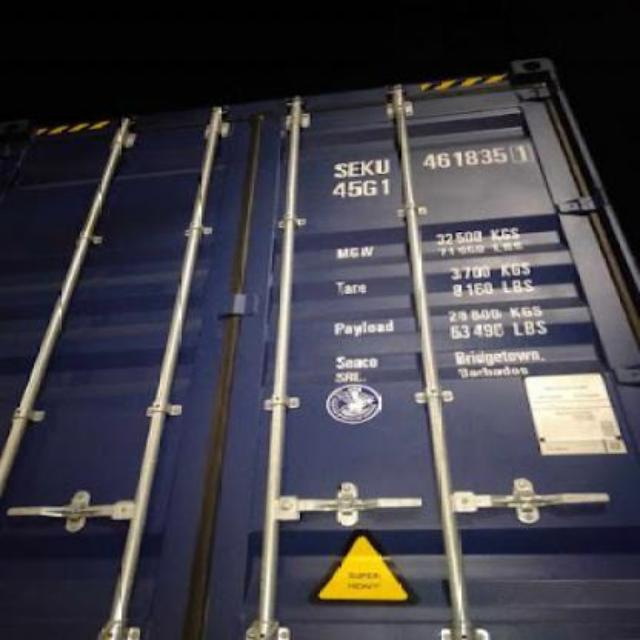1: (510, 138, 530, 160), (451, 146, 464, 172)
3: (476, 146, 489, 168)
4: (418, 147, 436, 171)
5: (490, 142, 508, 164)
6: (436, 146, 449, 170)
8: (464, 143, 478, 173)
E: (346, 154, 358, 180)
K: (358, 156, 372, 180)
S: (328, 156, 346, 178)
U: (372, 151, 394, 175)
